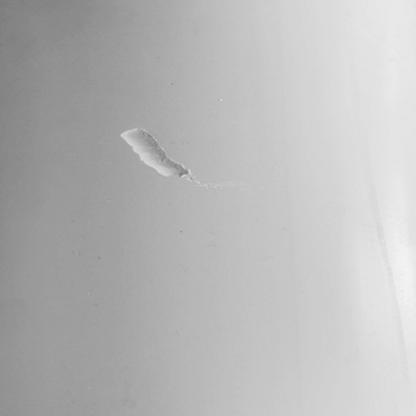sunshang: (120, 129, 196, 185)
